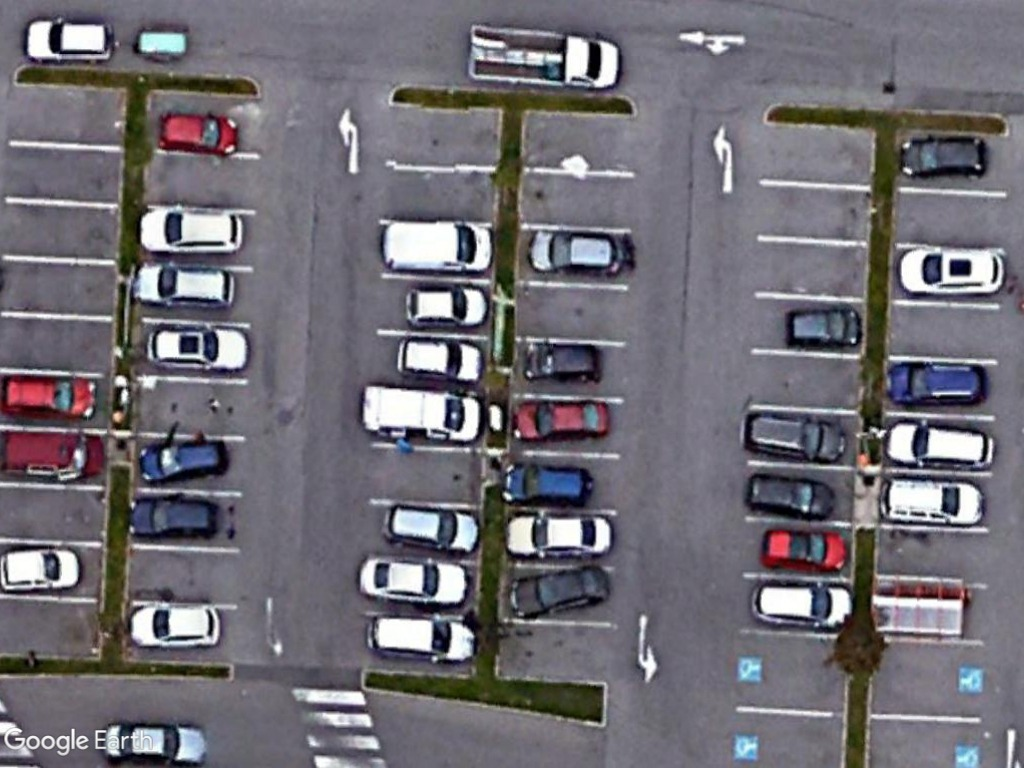car: (349, 550, 476, 610), (738, 402, 853, 468), (361, 606, 480, 664), (745, 573, 859, 633), (141, 319, 255, 378), (500, 508, 620, 564), (503, 560, 612, 620), (127, 255, 240, 312), (876, 474, 989, 531), (896, 243, 1009, 299), (130, 428, 232, 490), (134, 203, 250, 257), (883, 418, 1001, 471), (522, 224, 635, 279), (98, 714, 212, 768), (880, 355, 991, 409), (378, 500, 486, 555), (506, 396, 619, 448), (754, 522, 853, 580), (18, 14, 121, 68), (741, 468, 838, 525), (126, 600, 228, 653), (123, 492, 225, 544), (390, 333, 486, 386), (0, 372, 101, 422), (890, 133, 995, 181), (152, 108, 245, 161), (517, 335, 609, 388), (499, 461, 596, 511), (0, 540, 84, 596), (398, 282, 490, 330), (778, 302, 866, 352)
van: (464, 17, 623, 94), (355, 376, 489, 449), (374, 213, 500, 276)
